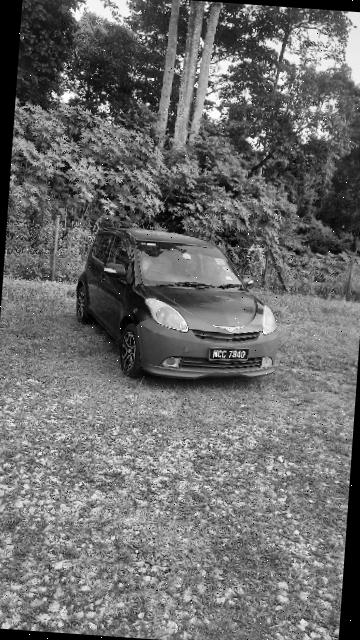License_Plate: (206, 343, 253, 364)
car: (68, 222, 296, 391)
